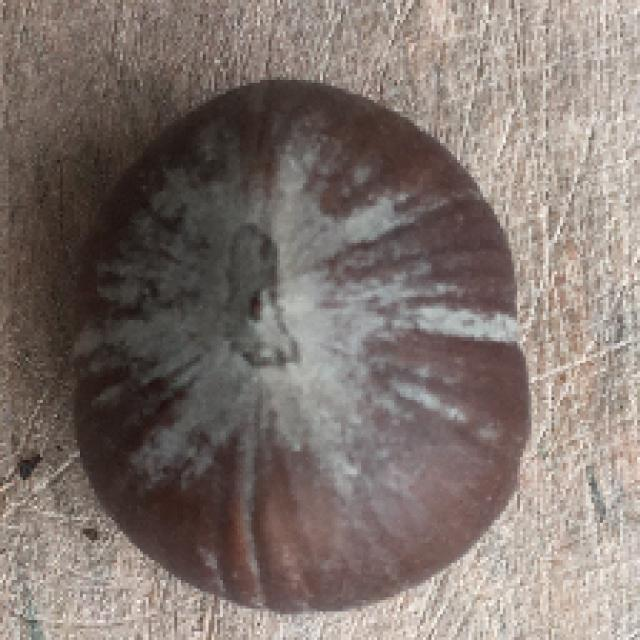damagedHazelnut: (77, 80, 537, 618)
